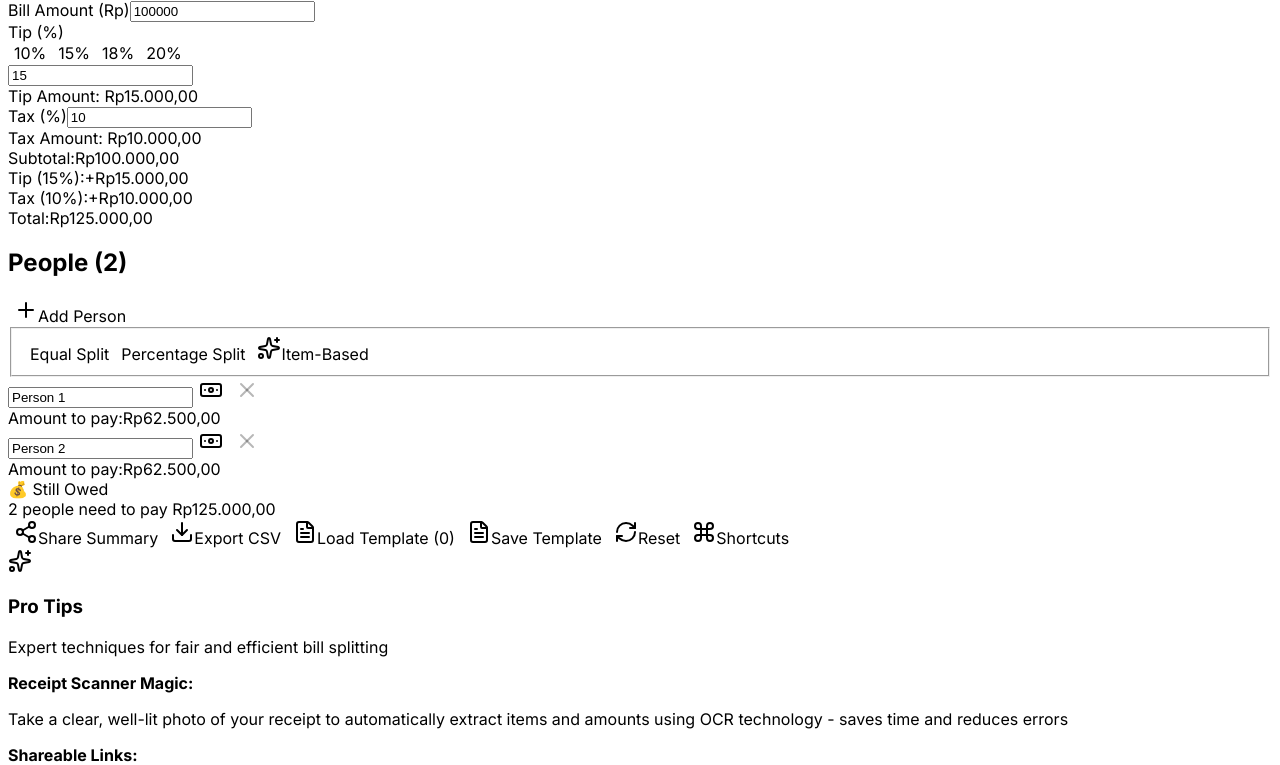
Test: Split Bill Calculator Page › People Management › should allow toggling payment status
(page scrolled)
Click the button named "Mark Person 1 as paid" at (211, 392), box top-left (193, 376), bottom-right (229, 406)
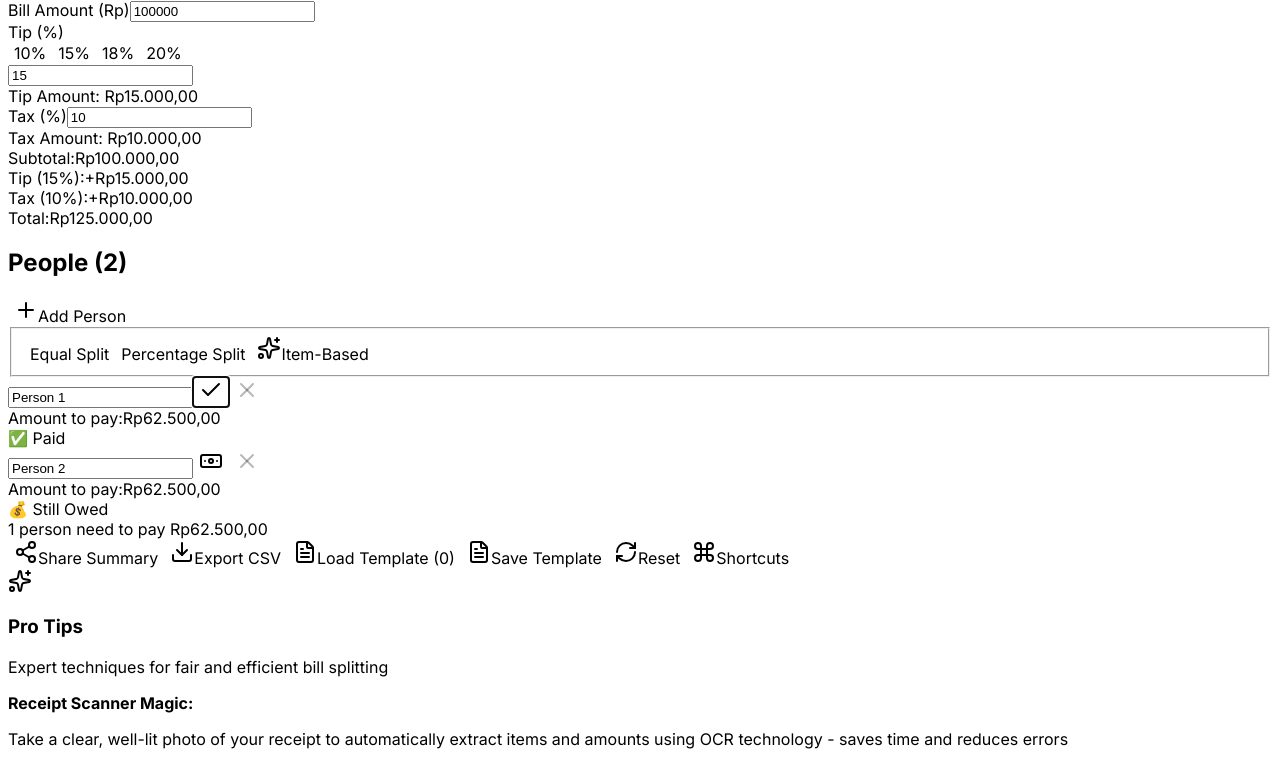
expect the button named "Mark Person 1 as unpaid" is shown: met, box top-left (193, 376), bottom-right (229, 406)
